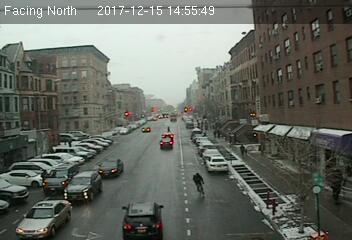bicycle: (191, 171, 207, 200)
car: (13, 198, 72, 237), (121, 202, 165, 236), (62, 170, 102, 202), (42, 164, 79, 192), (97, 158, 123, 177), (204, 156, 229, 175), (160, 138, 172, 147)
